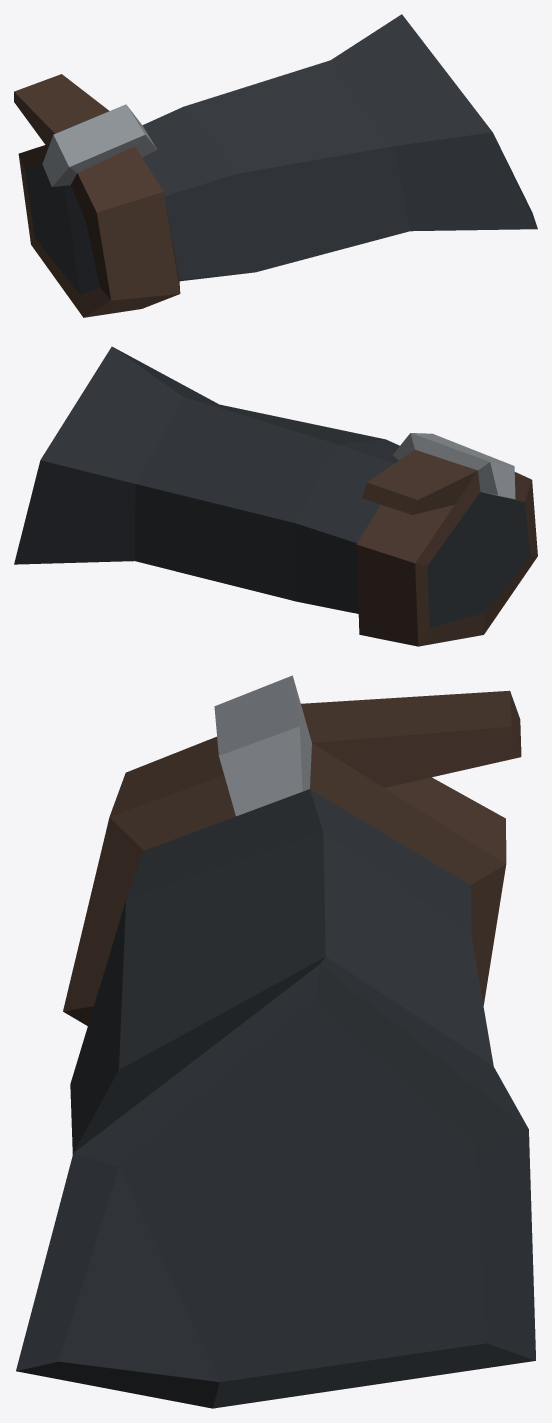
Rendered from Chr_ArmUpperRight_Male_10_Static.fbx.
3 renders of one model, top to bottom at view 1: azimuth 30°, elevation 25°; view 2: azimuth 150°, elevation 25°; view 3: azimuth 270°, elevation 25°, orthographic. The views are drawn at different scales.
Visible parts, largest first — view 1: Chr_ArmUpperRight_Male_10_Static; view 2: Chr_ArmUpperRight_Male_10_Static; view 3: Chr_ArmUpperRight_Male_10_Static.
Part boxes in pixels (x1,y1,x2,y2): Chr_ArmUpperRight_Male_10_Static: (14, 14, 537, 317); Chr_ArmUpperRight_Male_10_Static: (14, 346, 537, 646); Chr_ArmUpperRight_Male_10_Static: (16, 675, 535, 1408).
Bounding box in the file's own units: 0.334 × 0.1569 × 0.1736.
